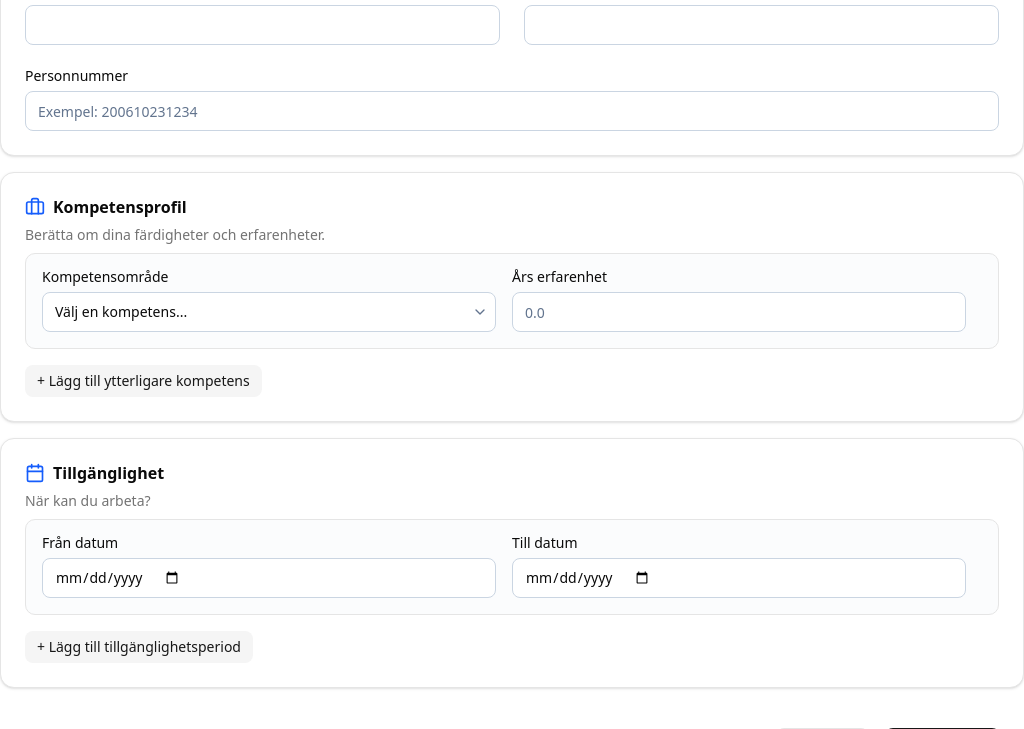
Scenario: create-account-form › borde hantera lägga till och ta bort tillgänliga perioder
(page scrolled)
Click the button "+ Lägg till tillgänglighetsperiod": click(139, 647) 25,631 -> 253,663
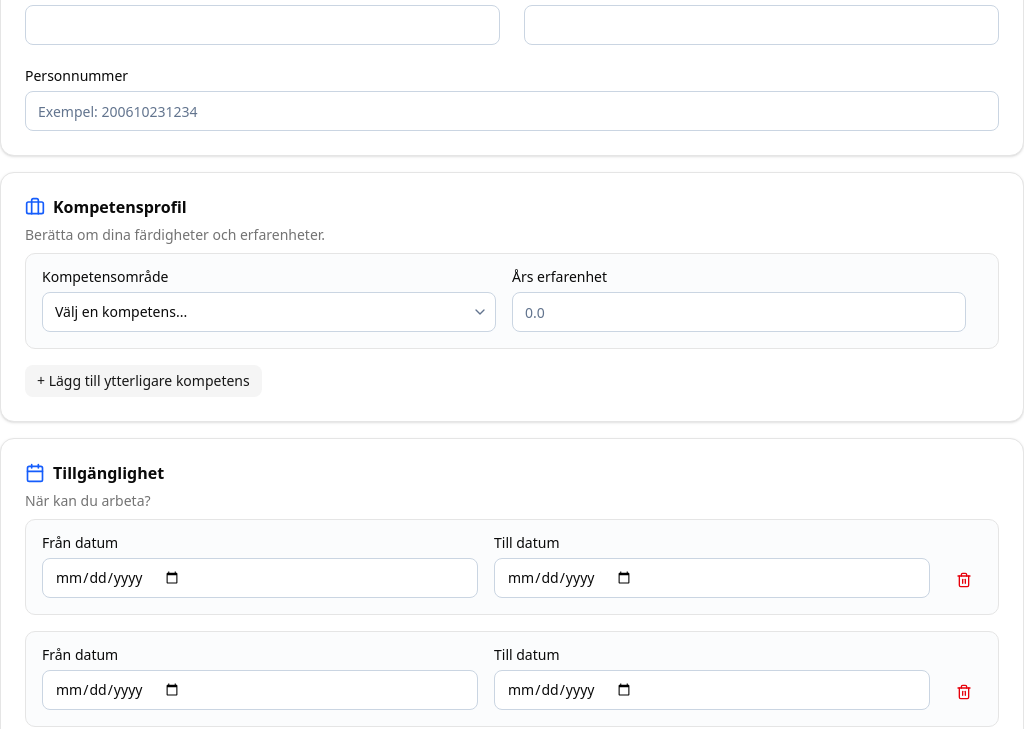
Expected: the number of date fields labelled "Från datum" is 2, 42,558 -> 478,598; 42,670 -> 478,710
Click the 2nd button: click(964, 580) 946,562 -> 982,598
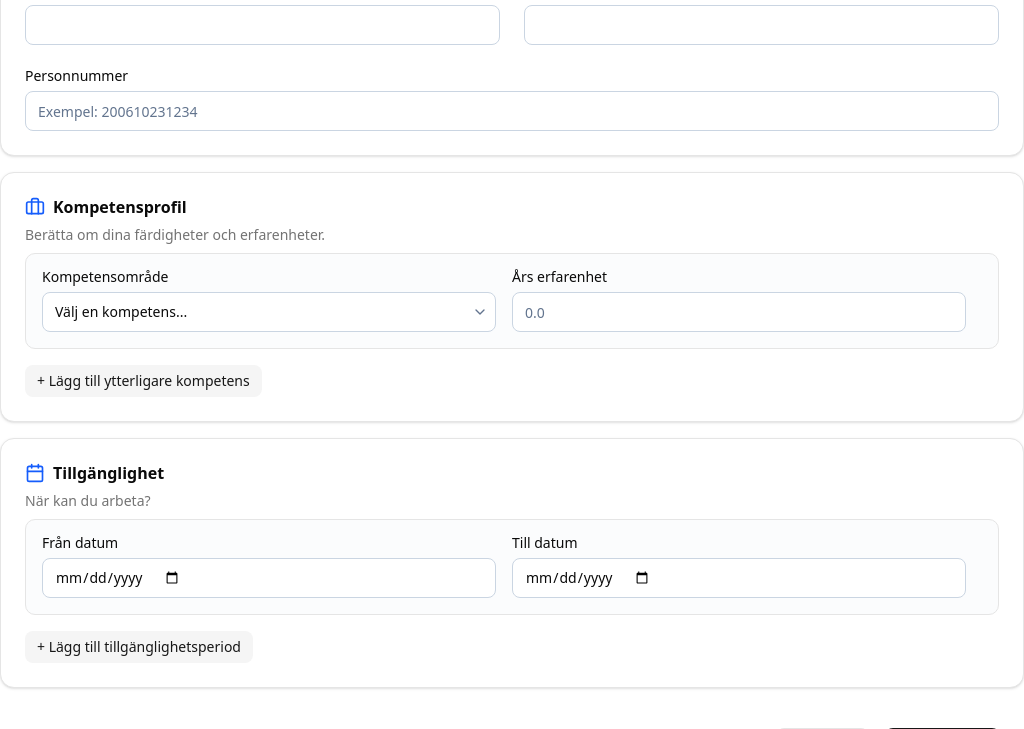
Expected: the number of date fields labelled "Från datum" is 1, 42,558 -> 496,598
